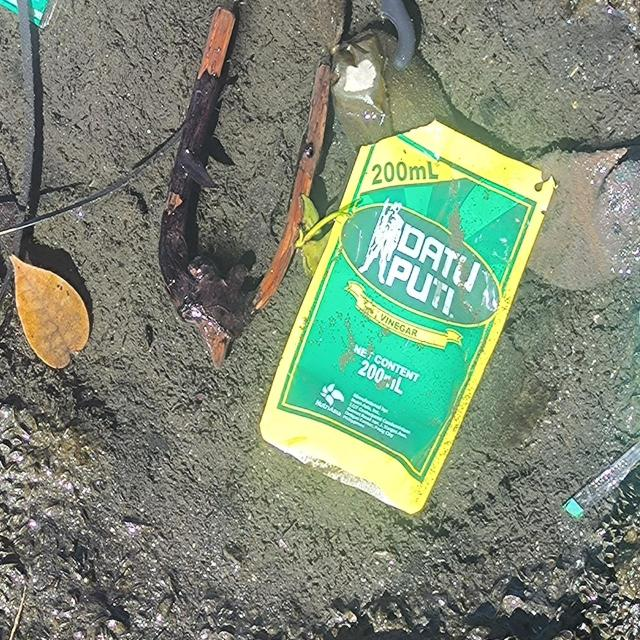plastic_waste: (255, 114, 559, 514)
